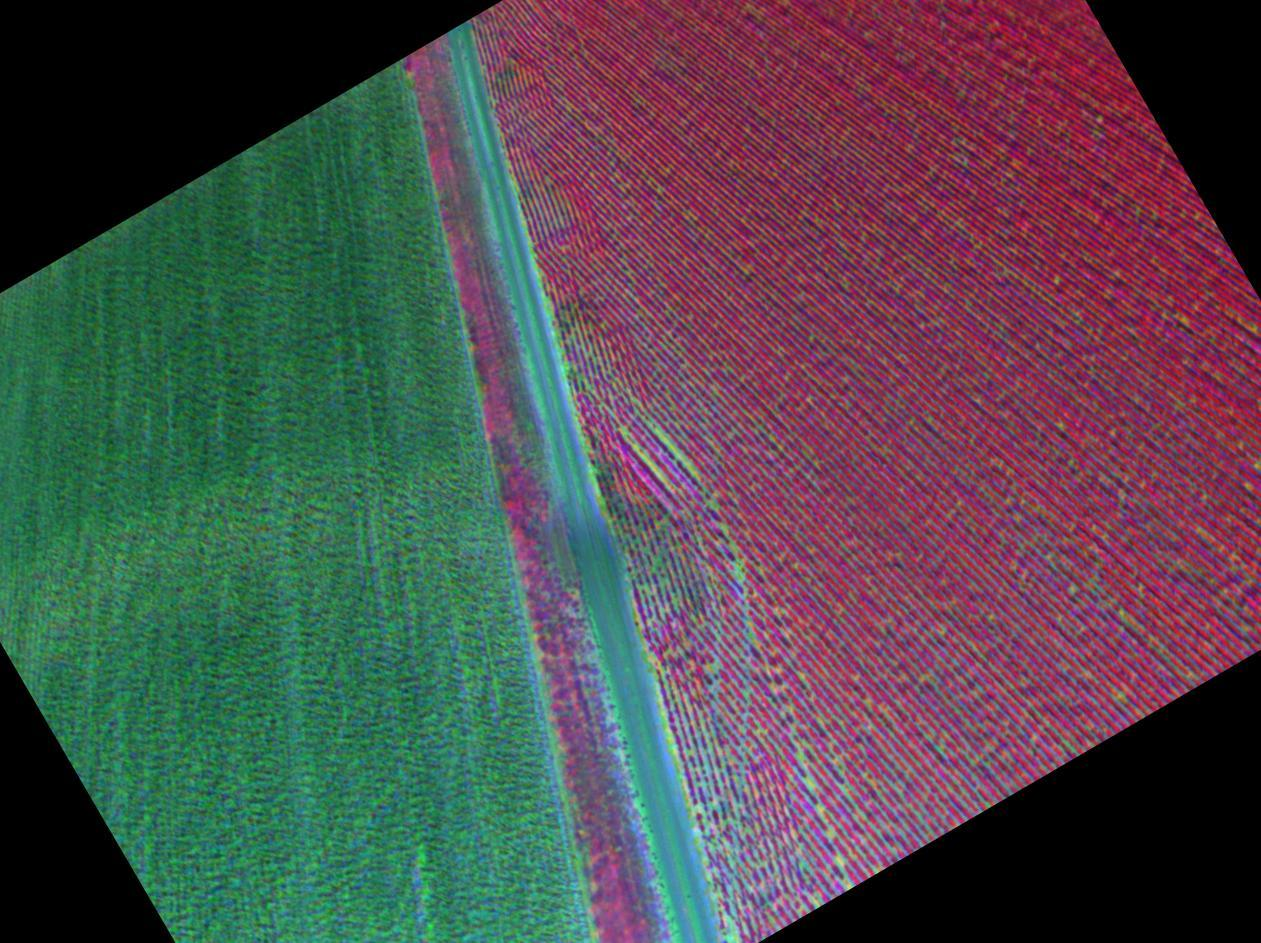dc: (670, 443, 676, 451), (807, 783, 813, 788), (650, 462, 655, 467), (732, 543, 736, 547), (712, 667, 716, 671)
